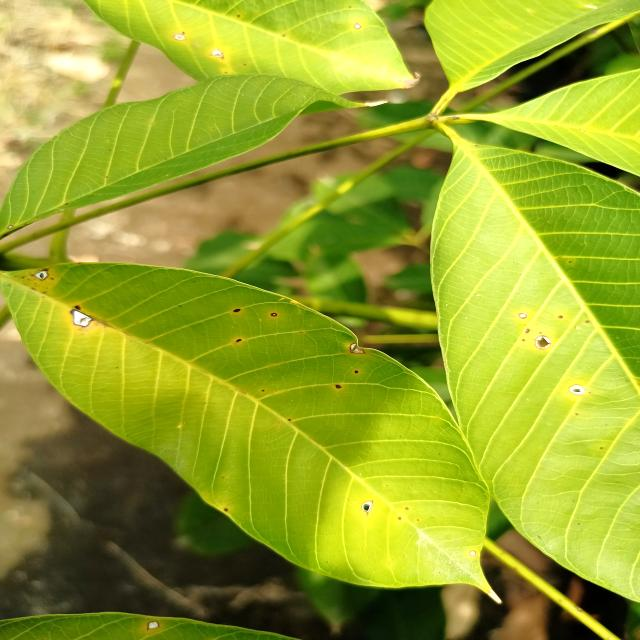Colletotrichum: (534, 335, 551, 350), (569, 384, 584, 396), (518, 313, 527, 319), (470, 550, 476, 556), (270, 312, 278, 316), (233, 308, 241, 312), (75, 306, 81, 310), (335, 384, 341, 388), (558, 315, 564, 319), (236, 339, 242, 342), (354, 371, 358, 374)
